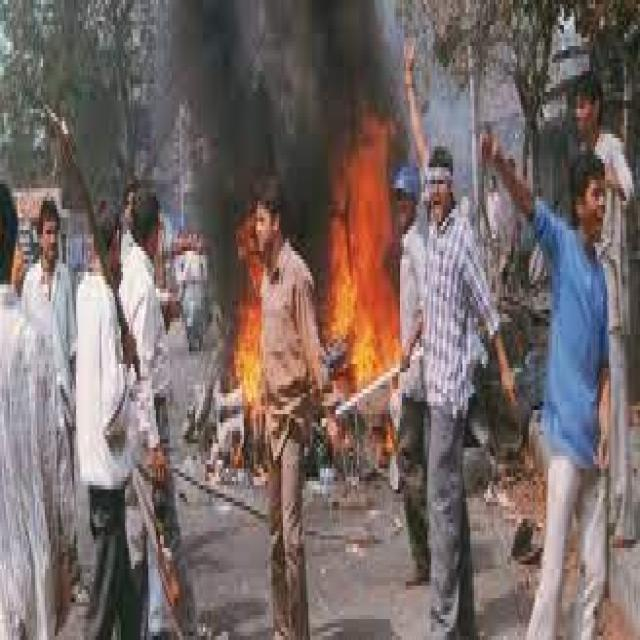Fire: (237, 122, 401, 402), (384, 424, 396, 461), (230, 450, 244, 470)
Smoke: (171, 0, 396, 121), (184, 124, 238, 368)
